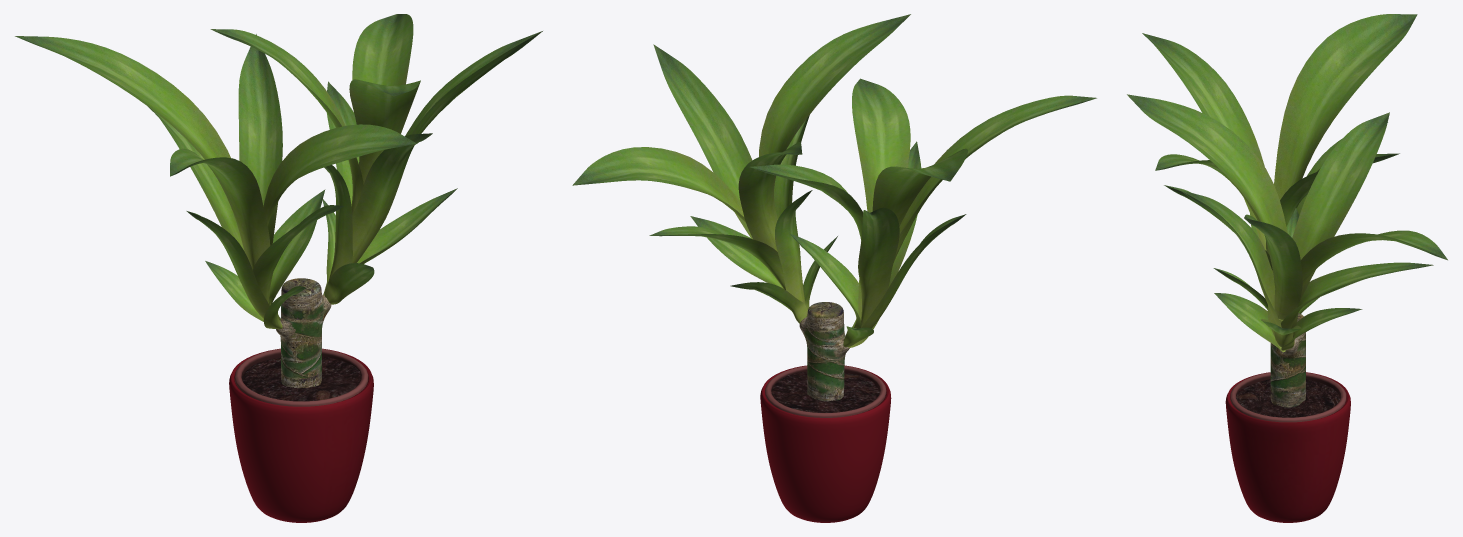
Rendered from Plant_Model_02.fbx.
The picture shows the model from 3 angles, left to right: view 1: azimuth 30°, elevation 25°; view 2: azimuth 150°, elevation 25°; view 3: azimuth 270°, elevation 25°; orthographic projection. The views are drawn at different scales.
Visible parts, largest first — view 1: Plant_Model_02; view 2: Plant_Model_02; view 3: Plant_Model_02.
Part boxes in pixels (x1=…): Plant_Model_02: x1=15, y1=14, x2=542, y2=522; Plant_Model_02: x1=572, y1=14, x2=1096, y2=522; Plant_Model_02: x1=1127, y1=14, x2=1447, y2=522.
Bounding box in the file's own units: 63.48 × 67.15 × 47.3.
Materials: 1 (1 with a texture image).
